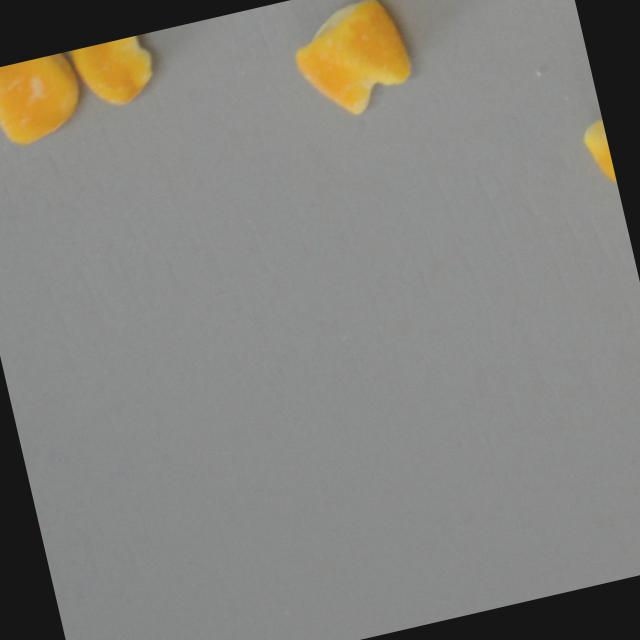dañado: (278, 0, 427, 128), (0, 48, 94, 156), (65, 30, 171, 120)
pelicula: (565, 76, 619, 201)
